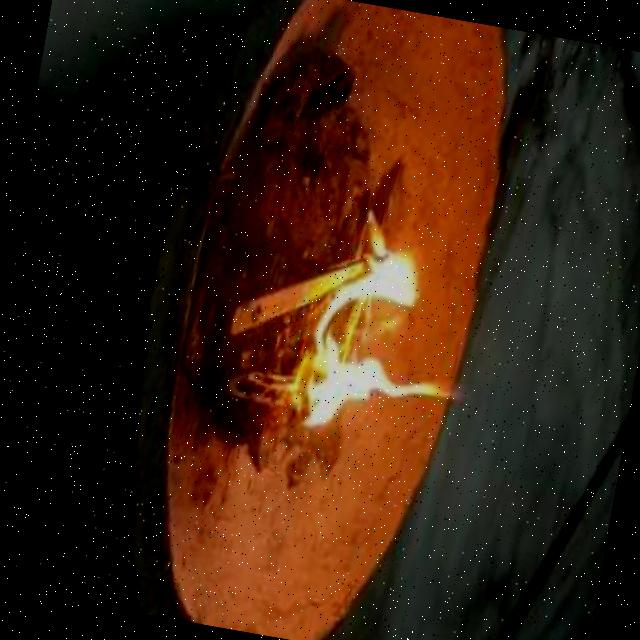fire: (258, 200, 496, 479)
